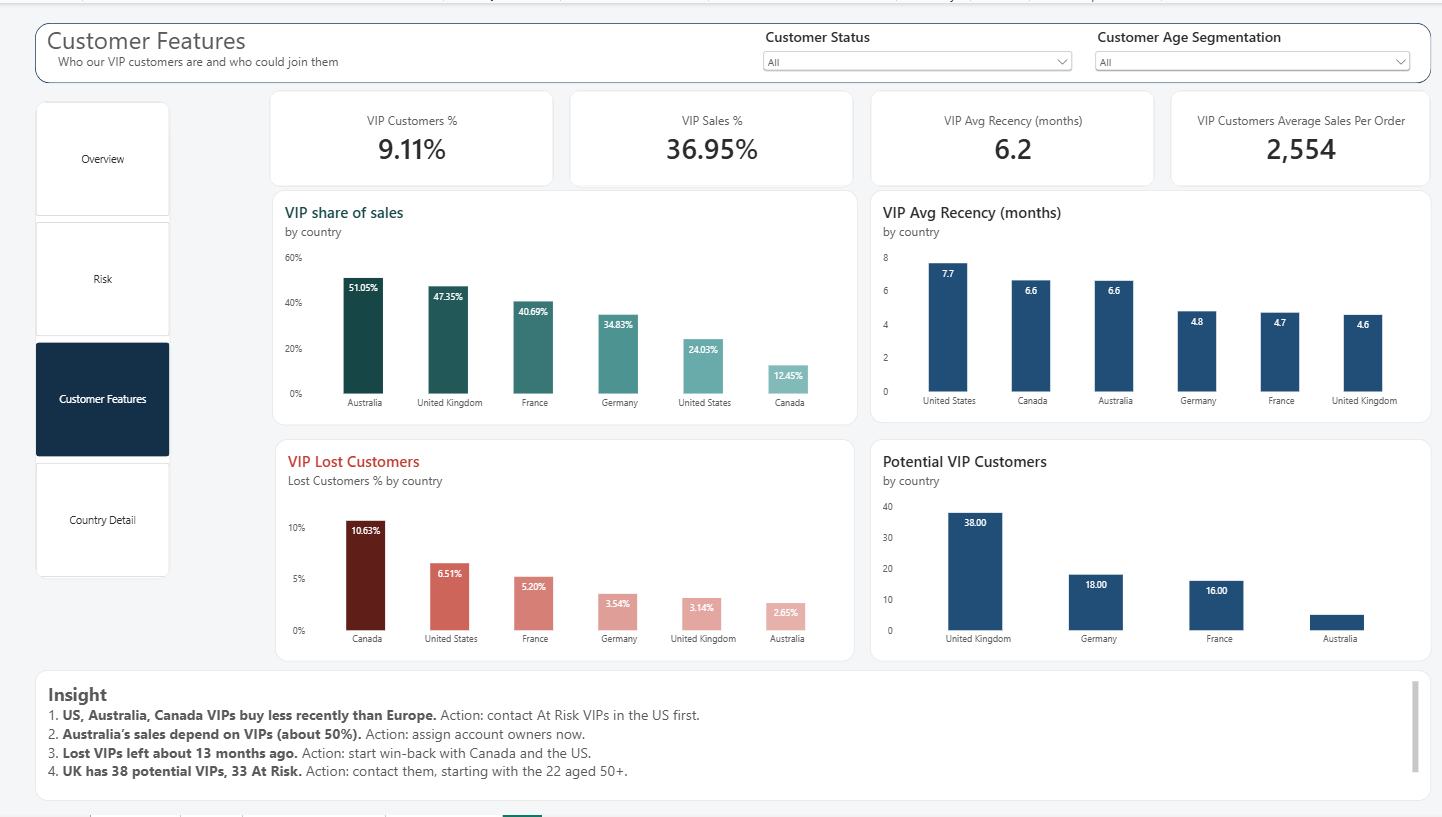

This screenshot's page, from the dashboard's own definition file:
{"tool":"powerbi","page":{"name":"Customer Features","canvas":[1920,1080],"ordinal":2},"visuals":[{"type":"shape","box":[46.7,26.3,1857.3,80.2],"z":0},{"type":"cardVisual","fields":{"Data":["Measure Table.VIP Customers %"]},"box":[357.4,116.1,379,129],"z":1000},{"type":"cardVisual","fields":{"Data":["Measure Table.VIP Customers recency AVG"]},"box":[1157.1,116.1,379,129],"z":2000},{"type":"cardVisual","fields":{"Data":["Measure Table.VIP Sales %"]},"box":[757.1,116.1,379.3,129.8],"z":3000},{"type":"cardVisual","fields":{"Data":["Measure Table.VIP Customers Average Sales Per Order"]},"box":[1556.7,116.1,347.2,129],"z":4000},{"type":"slicer","fields":{"Values":["gold customer_report.customer_age_segment"]},"box":[1441.5,32.1,449.4,70],"z":5000},{"type":"slicer","fields":{"Values":["gold customer_report.customer_status"]},"box":[1000.9,32.1,440.6,67.1],"z":6000},{"type":"textbox","box":[62.7,26.3,550,51.1],"z":7000},{"type":"textbox","box":[77.3,67.1,631.7,39.4],"z":8000},{"type":"textbox","box":[46.2,886.6,1857.5,174.1],"z":9000},{"type":"pageNavigator","box":[46.7,129.8,180,636.1],"z":10000},{"type":"clusteredColumnChart","title":"VIP share of sales","fields":{"Category":["gold customer_report.country"],"Y":["Measure Table.VIP Sales %"]},"box":[361.7,248.8,779.2,312.7],"z":11000},{"type":"clusteredColumnChart","fields":{"Category":["gold customer_report.country"],"Y":["Measure Table.VIP Customers recency AVG"]},"box":[1157.2,248.8,746.5,310],"z":12000},{"type":"clusteredColumnChart","title":"VIP Lost Customers","fields":{"Category":["gold customer_report.country"],"Y":["Measure Table.Lost Customers %"]},"box":[365.8,579.3,771,296.4],"z":13000},{"type":"clusteredColumnChart","title":"Potential VIP Customers","fields":{"Category":["gold customer_report.country"],"Y":["Measure Table.Customers"]},"box":[1157.2,579.3,746.5,296.4],"z":14000}]}

Visuals, with their boxes on the page's 1920x1080 design canvas (x1, y1, x2, y2). These are canvas units, not pixel positions in the 1442x817 screenshot, which may show the page scaled, cropped or inside an application window:
shape: left=47, top=26, right=1904, bottom=106
cardVisual - Measure Table.VIP Customers %: left=357, top=116, right=736, bottom=245
cardVisual - Measure Table.VIP Customers recency AVG: left=1157, top=116, right=1536, bottom=245
cardVisual - Measure Table.VIP Sales %: left=757, top=116, right=1136, bottom=246
cardVisual - Measure Table.VIP Customers Average Sales Per Order: left=1557, top=116, right=1904, bottom=245
slicer - gold customer_report.customer_age_segment: left=1442, top=32, right=1891, bottom=102
slicer - gold customer_report.customer_status: left=1001, top=32, right=1442, bottom=99
textbox: left=63, top=26, right=613, bottom=77
textbox: left=77, top=67, right=709, bottom=106
textbox: left=46, top=887, right=1904, bottom=1061
pageNavigator: left=47, top=130, right=227, bottom=766
"VIP share of sales" clusteredColumnChart: left=362, top=249, right=1141, bottom=562
clusteredColumnChart - gold customer_report.country x Measure Table.VIP Customers recency AVG: left=1157, top=249, right=1904, bottom=559
"VIP Lost Customers" clusteredColumnChart: left=366, top=579, right=1137, bottom=876
"Potential VIP Customers" clusteredColumnChart: left=1157, top=579, right=1904, bottom=876
